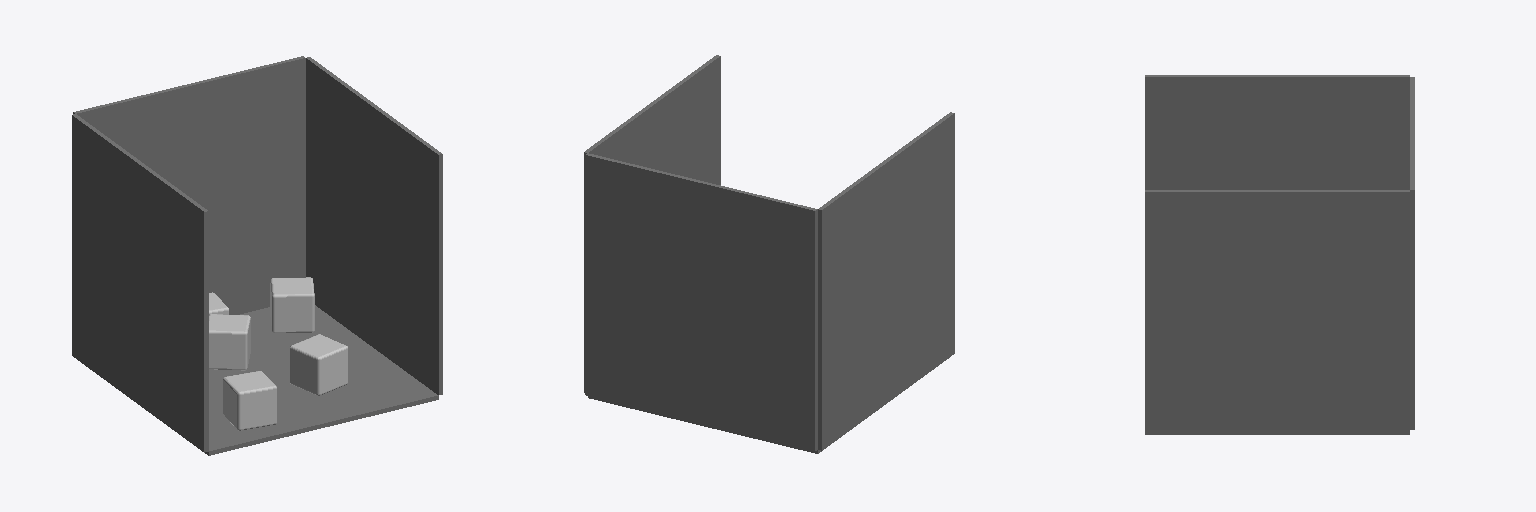
File: wall.obj
3 renders of one model, left to right at view 1: azimuth 30°, elevation 25°; view 2: azimuth 150°, elevation 25°; view 3: azimuth 270°, elevation 25°, orthographic.
Parts seen in each view (by area): view 1: SmartCombine_1; view 2: SmartCombine_1; view 3: SmartCombine_1.
Part boxes in pixels (x1,y1,x2,y2): SmartCombine_1: (72,56,442,455); SmartCombine_1: (584,55,954,453); SmartCombine_1: (1145,75,1414,434).
Bounding box in the file's own units: 79.05 × 77.64 × 77.64.